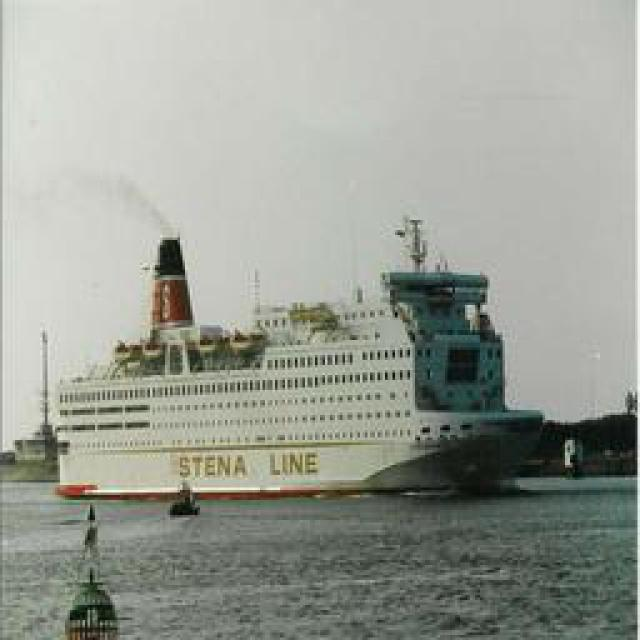Ship: (54, 230, 539, 508)
